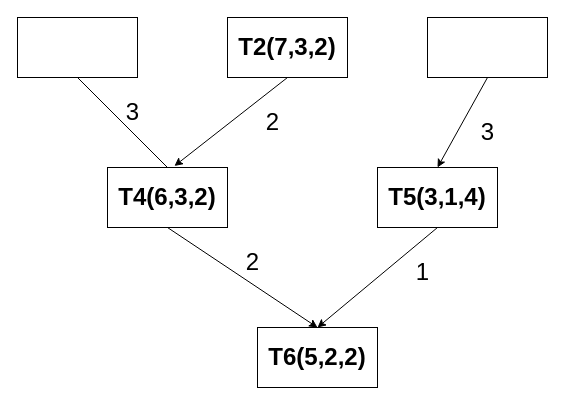
The diagram is 565 pixels wide and 405 high, and some of its shapes have lost their labels. The shapes that lost their labels are listed below. From the top down, each one's box as (x1, y1, x2, y2) in pixels, then its label:
(16, 16, 138, 78): T1(5,2,1)
(426, 16, 548, 78): T3(4,2,1)
